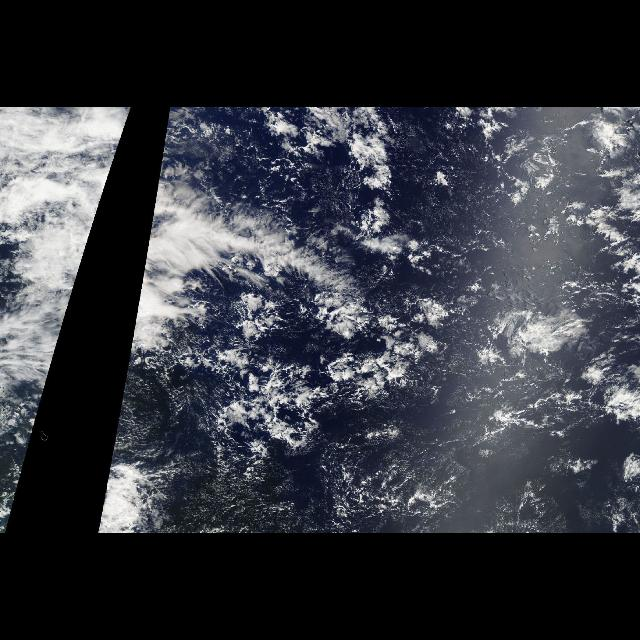Fish: (130, 162, 374, 344), (73, 162, 113, 294)
Gravel: (320, 421, 482, 534)
Sugar: (324, 400, 598, 530), (408, 124, 496, 282)
